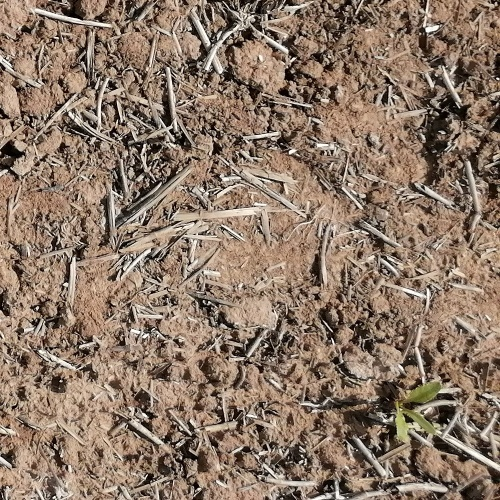beet: (392, 382, 442, 439)
